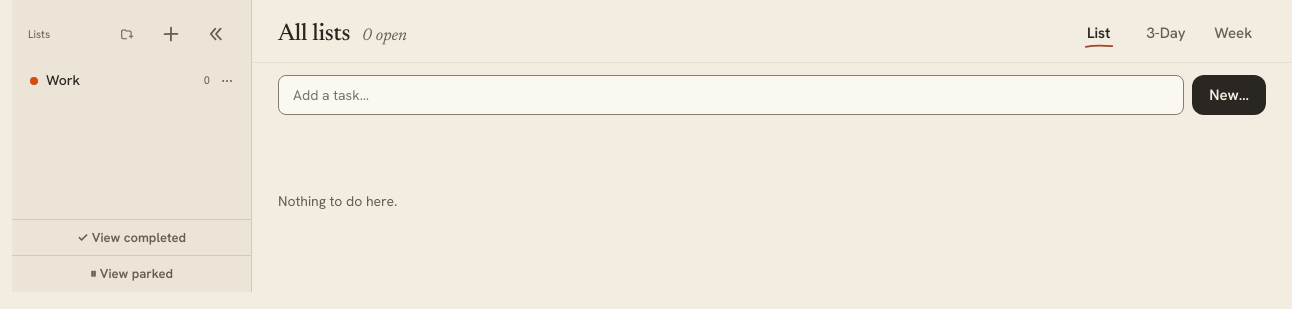
Test case: aug19 stage 4b — the Completed pane and a RELATED-TO ring › still nests an ordinary completed child under its completed parent
This screenshot has width=1292, height=309.
Click the button "✓ View completed" at (132, 237), box left=12, top=219, right=251, bottom=255
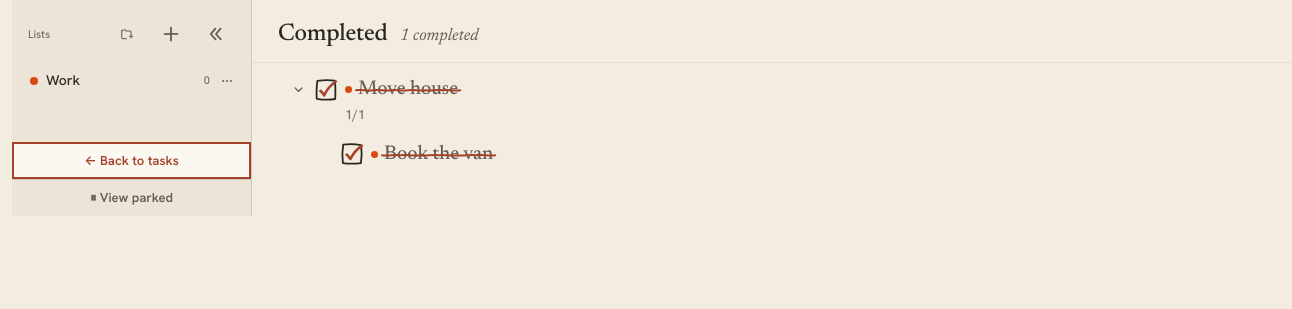
expect the text "Move house" is shown: met, box left=345, top=77, right=1266, bottom=102
expect the text "Book the van" is shown once: met, box left=371, top=142, right=1266, bottom=166
